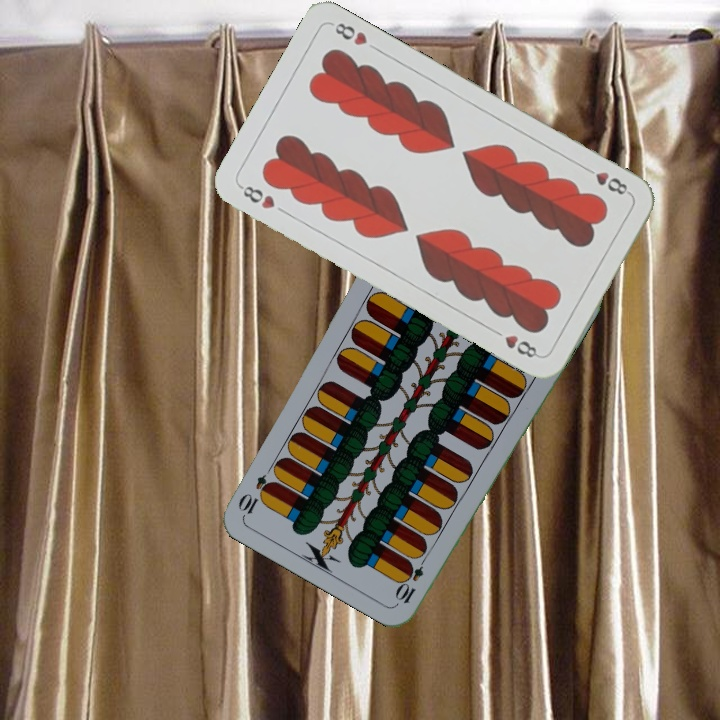E10: (393, 550, 430, 606)
H8: (579, 162, 633, 198), (235, 181, 278, 212)
